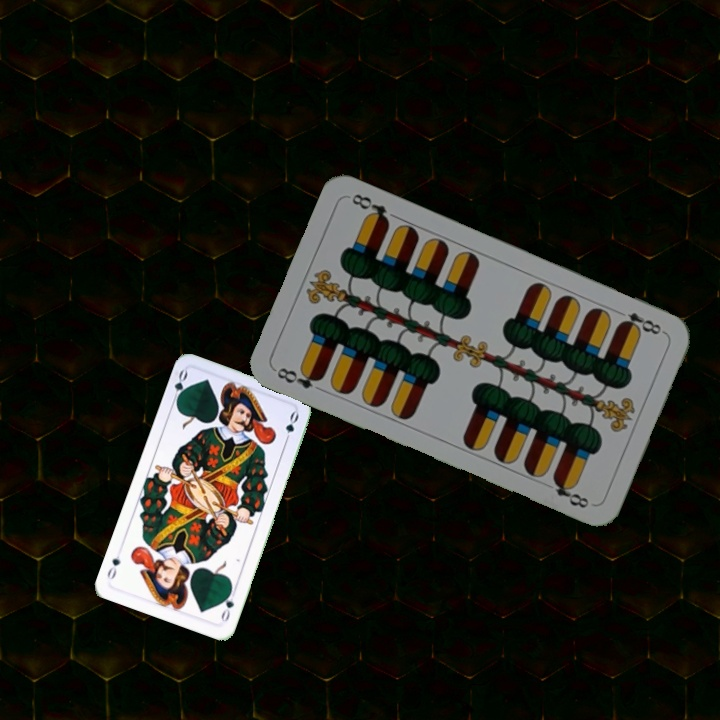E8: (612, 306, 668, 338), (272, 363, 326, 392)
GO: (168, 366, 190, 407), (217, 585, 239, 625)
